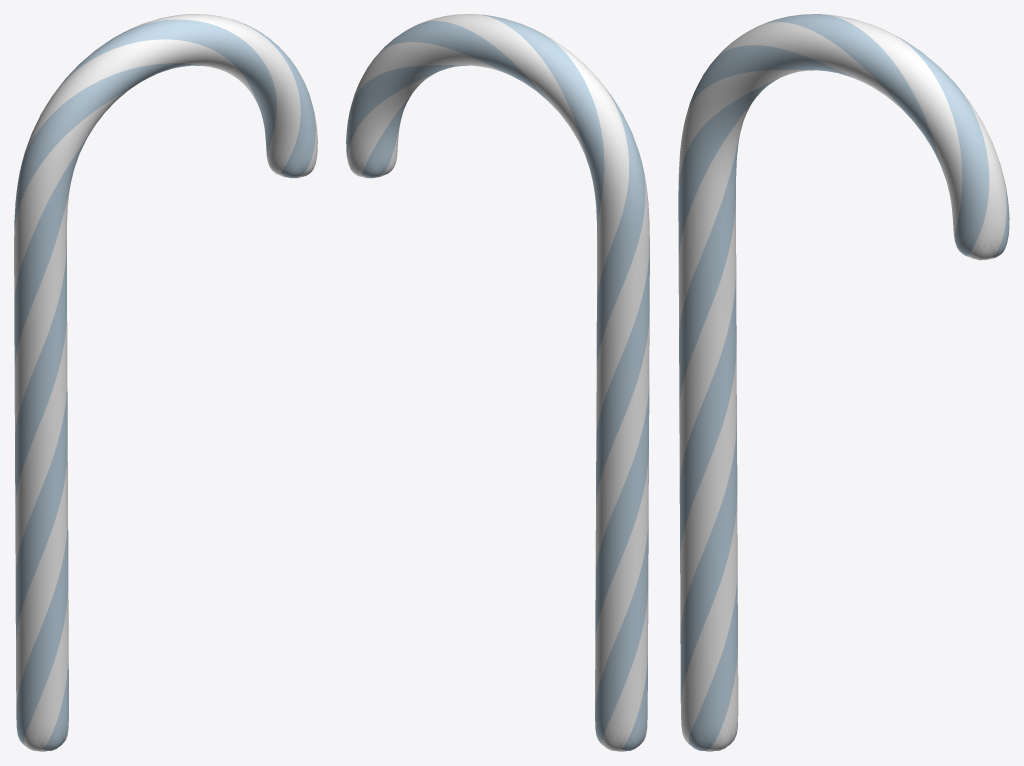
File: 1stbluecandycane.gltf
3 views of the same model, side by side, from view 1: azimuth 30°, elevation 25°; view 2: azimuth 150°, elevation 25°; view 3: azimuth 330°, elevation 25° (orthographic). The views are drawn at different scales.
Visible parts, largest first — view 1: Circle.001; view 2: Circle.001; view 3: Circle.001.
Part boxes in pixels (x1=…): Circle.001: x1=14, y1=14, x2=317, y2=751; Circle.001: x1=346, y1=14, x2=649, y2=751; Circle.001: x1=678, y1=14, x2=1009, y2=751.
Size of the model in its own units: 2.34 by 5.25 by 0.3596.
